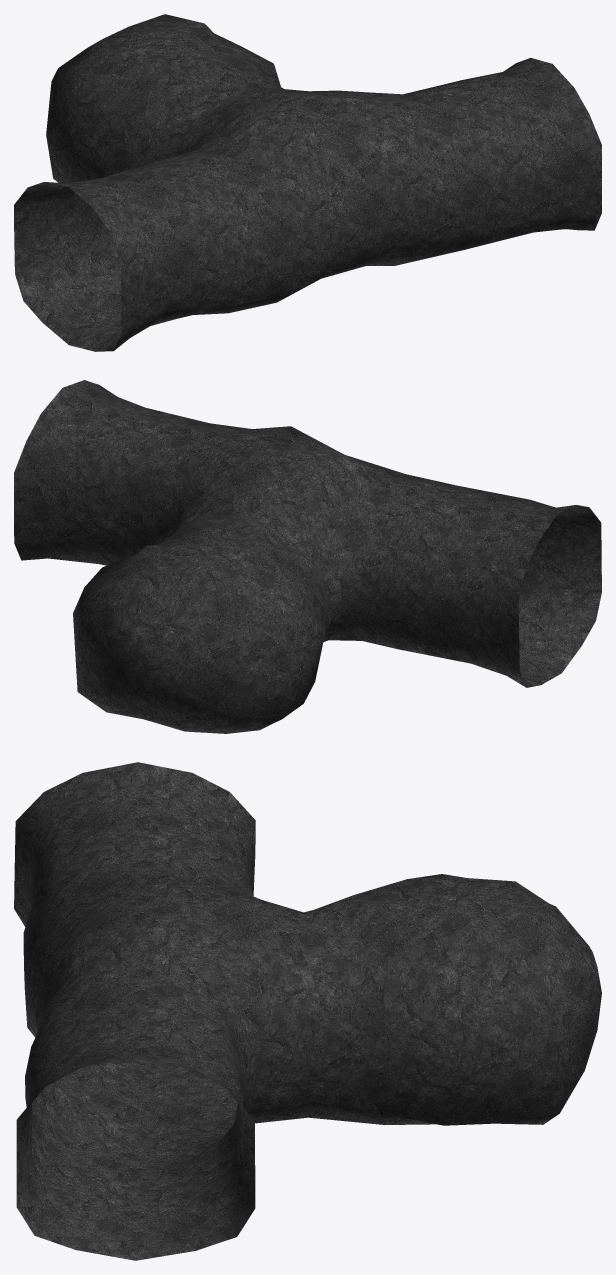
The model's file is CaveHallway2.glb.
3 views of the same model, one above another, from view 1: azimuth 30°, elevation 25°; view 2: azimuth 150°, elevation 25°; view 3: azimuth 270°, elevation 25° (orthographic). The views are drawn at different scales.
Visible parts, largest first — view 1: Cube.009; view 2: Cube.009; view 3: Cube.009.
Part boxes in pixels (x1=…): Cube.009: x1=14, y1=14, x2=601, y2=351; Cube.009: x1=14, y1=380, x2=601, y2=733; Cube.009: x1=14, y1=762, x2=601, y2=1260.
Bounding box in the file's own units: 22.88 × 7.46 × 18.39.
Materials: 1 (1 with a texture image).
